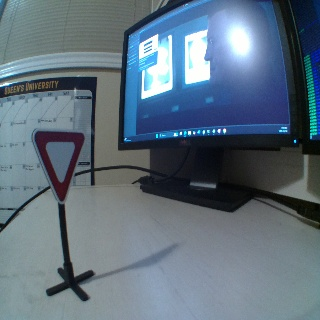sign_yield: (29, 125, 92, 202)
